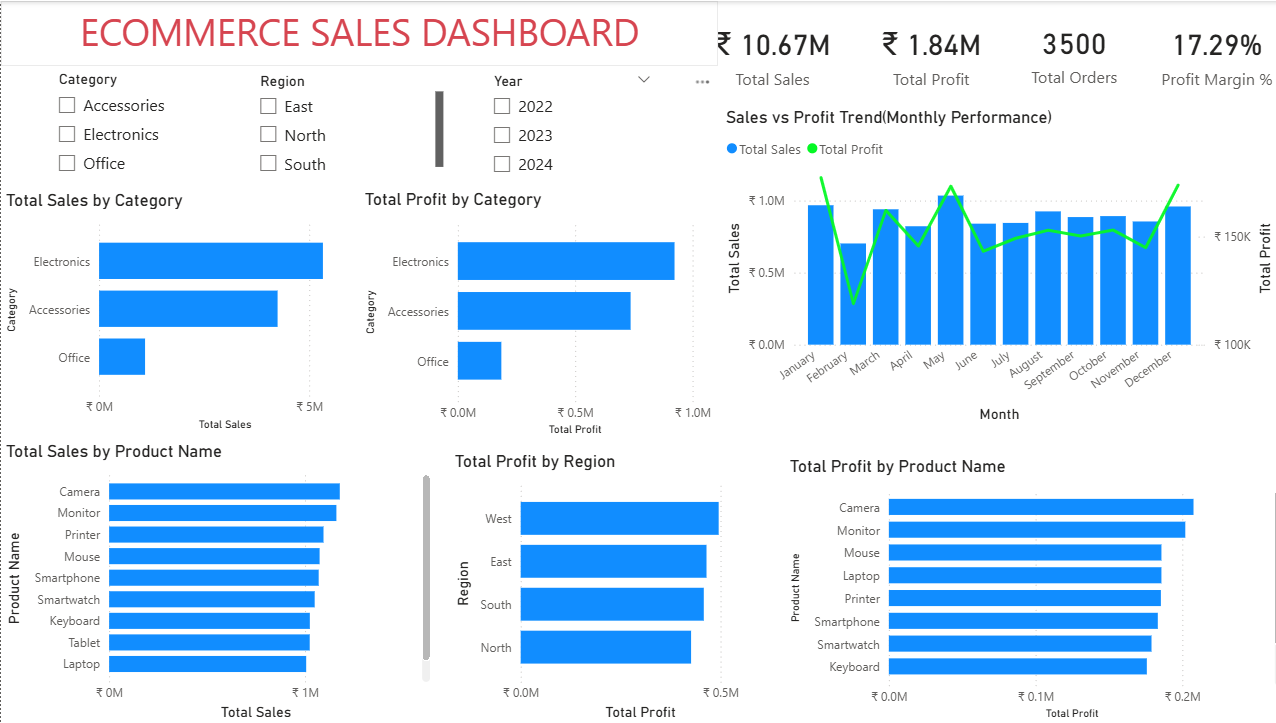

The dashboard page shown, as its layout file describes it:
{"tool":"powerbi","page":{"name":"Page 1","canvas":[1280,720],"ordinal":0},"visuals":[{"type":"lineStackedColumnComboChart","title":"Sales vs Profit Trend(Monthly Performance)","fields":{"Category":["ecommerce_sales_data.Order Date.Variation.Date Hierarchy.Month"],"Y":["ecommerce_sales_data.Total Sales"],"Y2":["ecommerce_sales_data.Total Profit"]},"box":[716,106,554.8,318],"z":0},{"type":"card","fields":{"Values":["ecommerce_sales_data.Total Sales"]},"box":[697.1,0,142.7,105.7],"z":1000},{"type":"card","fields":{"Values":["ecommerce_sales_data.Total Profit"]},"box":[854.9,0,142.7,105.7],"z":2000},{"type":"card","fields":{"Values":["ecommerce_sales_data.Total Orders"]},"box":[997.6,0,141.3,102.9],"z":3000},{"type":"card","fields":{"Values":["ecommerce_sales_data.Profit Margin %"]},"box":[1138.9,0,141.3,105.7],"z":4000},{"type":"clusteredBarChart","fields":{"Category":["ecommerce_sales_data.Category"],"Y":["ecommerce_sales_data.Total Sales"]},"box":[0,188,367.8,244.3],"z":5000},{"type":"clusteredBarChart","fields":{"Category":["ecommerce_sales_data.Category"],"Y":["ecommerce_sales_data.Total Profit"]},"box":[356.8,186.6,355.4,251.1],"z":6000},{"type":"barChart","fields":{"Category":["ecommerce_sales_data.Region"],"Y":["ecommerce_sales_data.Total Profit"]},"box":[446,447.3,333.4,273.1],"z":7000},{"type":"barChart","fields":{"Category":["ecommerce_sales_data.Product Name"],"Y":["ecommerce_sales_data.Total Sales"]},"box":[0,437.7,432.2,282.7],"z":7001},{"type":"barChart","fields":{"Category":["ecommerce_sales_data.Product Name"],"Y":["ecommerce_sales_data.Total Profit"]},"box":[779.4,452.8,500.9,267.6],"z":7002},{"type":"slicer","fields":{"Values":["ecommerce_sales_data.Category"]},"box":[45.3,64.5,200.3,122.1],"z":7003},{"type":"slicer","fields":{"Values":["ecommerce_sales_data.Region"]},"box":[245.6,65.9,200.3,122.1],"z":7004},{"type":"slicer","fields":{"Values":["ecommerce_sales_data.Order Date.Variation.Date Hierarchy.Year"]},"box":[477.5,65.9,181.1,122.1],"z":7005},{"type":"textbox","box":[0,0,713.6,64.5],"z":7006}]}

Visuals, with their boxes in screenshot pixels (x1, y1, x2, y2), scaled from the page's 1280x720 canvas onto the 1276x723 screenshot:
"Sales vs Profit Trend(Monthly Performance)" lineStackedColumnComboChart: l=714, t=106, r=1267, b=426
card - ecommerce_sales_data.Total Sales: l=695, t=0, r=837, b=106
card - ecommerce_sales_data.Total Profit: l=852, t=0, r=994, b=106
card - ecommerce_sales_data.Total Orders: l=994, t=0, r=1135, b=103
card - ecommerce_sales_data.Profit Margin %: l=1135, t=0, r=1275, b=106
clusteredBarChart - ecommerce_sales_data.Category x ecommerce_sales_data.Total Sales: l=0, t=189, r=367, b=434
clusteredBarChart - ecommerce_sales_data.Category x ecommerce_sales_data.Total Profit: l=356, t=187, r=710, b=440
barChart - ecommerce_sales_data.Region x ecommerce_sales_data.Total Profit: l=445, t=449, r=777, b=722
barChart - ecommerce_sales_data.Product Name x ecommerce_sales_data.Total Sales: l=0, t=440, r=431, b=722
barChart - ecommerce_sales_data.Product Name x ecommerce_sales_data.Total Profit: l=777, t=455, r=1275, b=722
slicer - ecommerce_sales_data.Category: l=45, t=65, r=245, b=187
slicer - ecommerce_sales_data.Region: l=245, t=66, r=445, b=189
slicer - ecommerce_sales_data.Order Date.Variation.Date Hierarchy.Year: l=476, t=66, r=657, b=189
textbox: l=0, t=0, r=711, b=65
